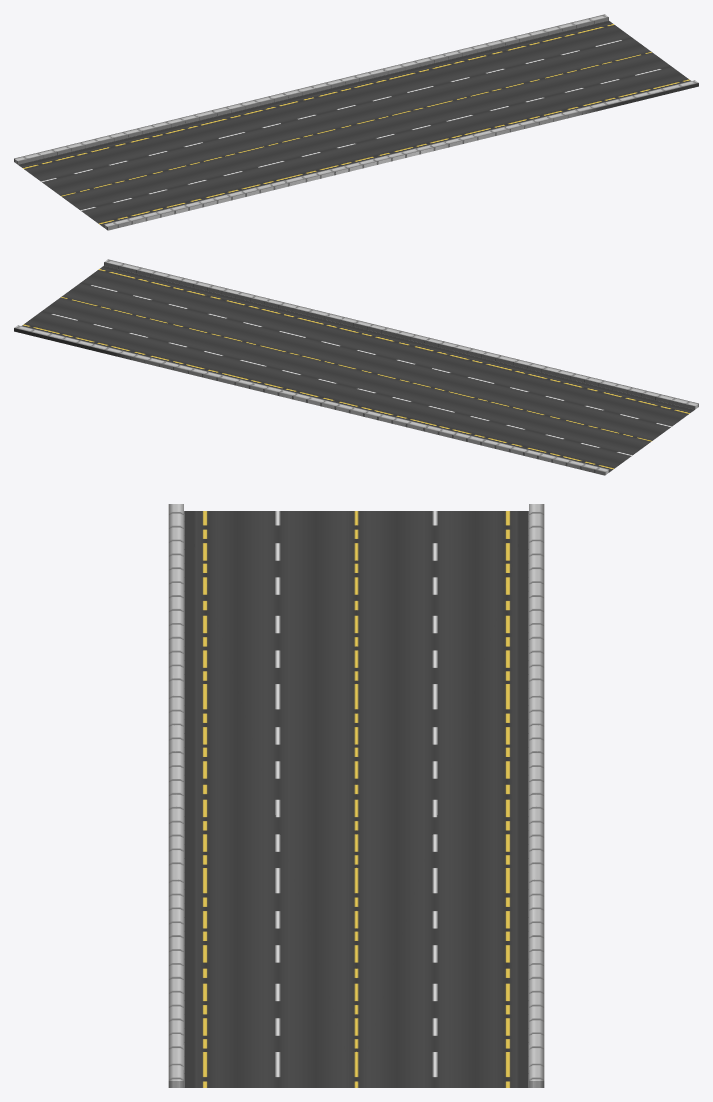
Rendered from LongRoadModel.fbx.
The picture shows the model from 3 angles, top to bottom: view 1: azimuth 30°, elevation 25°; view 2: azimuth 150°, elevation 25°; view 3: azimuth 270°, elevation 25°; orthographic projection. The views are drawn at different scales.
Visible parts, largest first — view 1: LongRoad.001; view 2: LongRoad.001; view 3: LongRoad.001.
Boxes of the visible parts, bbox=[...] form: LongRoad.001: bbox=[14, 14, 698, 230]; LongRoad.001: bbox=[14, 259, 698, 475]; LongRoad.001: bbox=[168, 504, 544, 1087].
Size of the model in its own units: 7995 by 44.17 by 2202.
1 material, 1 textured.
